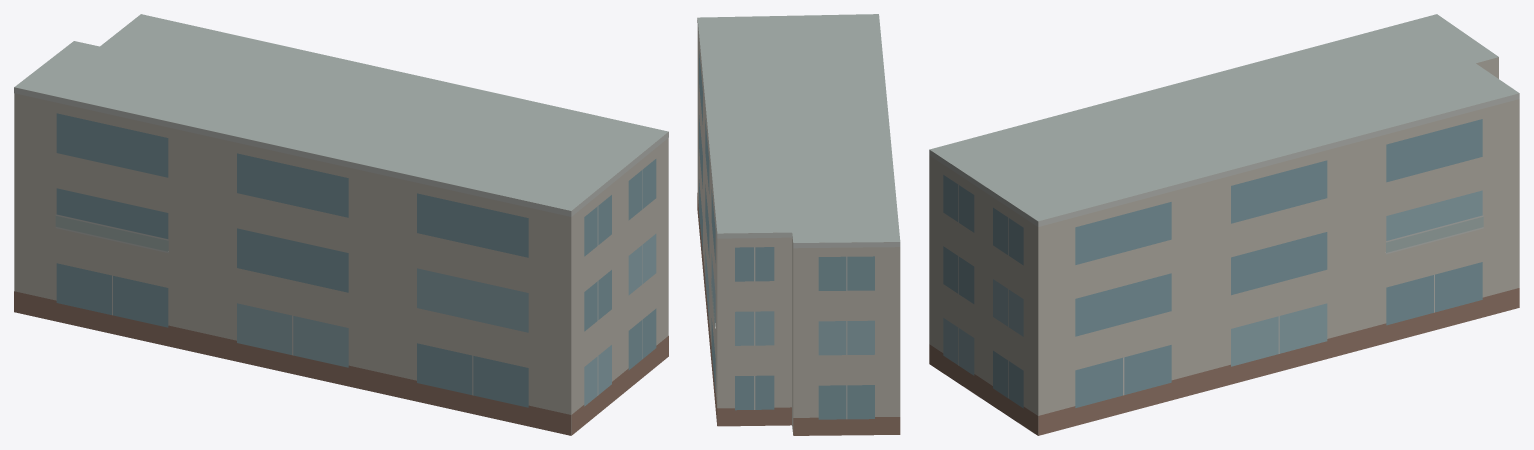
The model's file is survey-upis-32719675.glb.
The picture shows the model from 3 angles, left to right: view 1: azimuth 30°, elevation 25°; view 2: azimuth 150°, elevation 25°; view 3: azimuth 270°, elevation 25°; orthographic projection. The views are drawn at different scales.
Visible parts, largest first — view 1: survey-upis-32719675.tmp; view 2: survey-upis-32719675.tmp; view 3: survey-upis-32719675.tmp.
Part boxes in pixels (left/top/right/bottom): survey-upis-32719675.tmp: left=14, top=14, right=668, bottom=435; survey-upis-32719675.tmp: left=697, top=14, right=900, bottom=435; survey-upis-32719675.tmp: left=929, top=14, right=1519, bottom=435.
Bounding box in the file's own units: 18.98 × 9.15 × 22.83.
